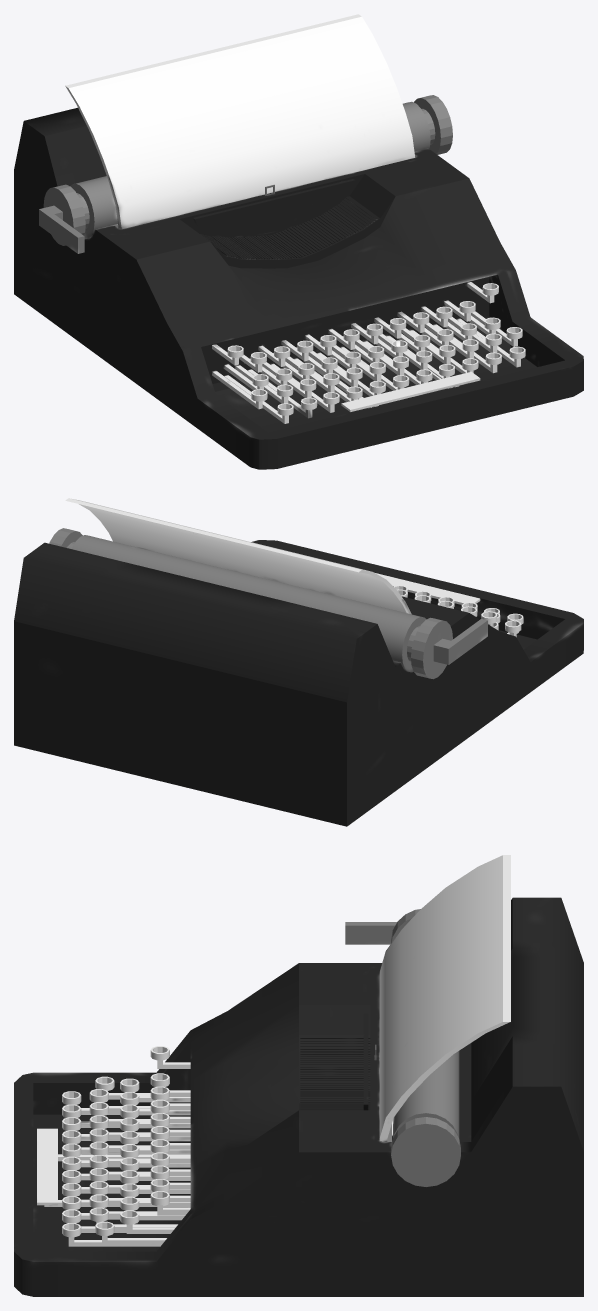
Rendered from Typewriter Coloured.fbx.
The picture shows the model from 3 angles, top to bottom: view 1: azimuth 30°, elevation 25°; view 2: azimuth 150°, elevation 25°; view 3: azimuth 270°, elevation 25°; orthographic projection. The views are drawn at different scales.
Visible parts, largest first — view 1: pCube25; view 2: pCube25; view 3: pCube25.
Boxes of the visible parts, x1,y1,x2,y2 form: pCube25: (14,14,583,469); pCube25: (14,498,583,826); pCube25: (14,855,583,1296).
Bounding box in the file's own units: 61.49 × 33.75 × 66.08.
Materials: 1 (1 with a texture image).
